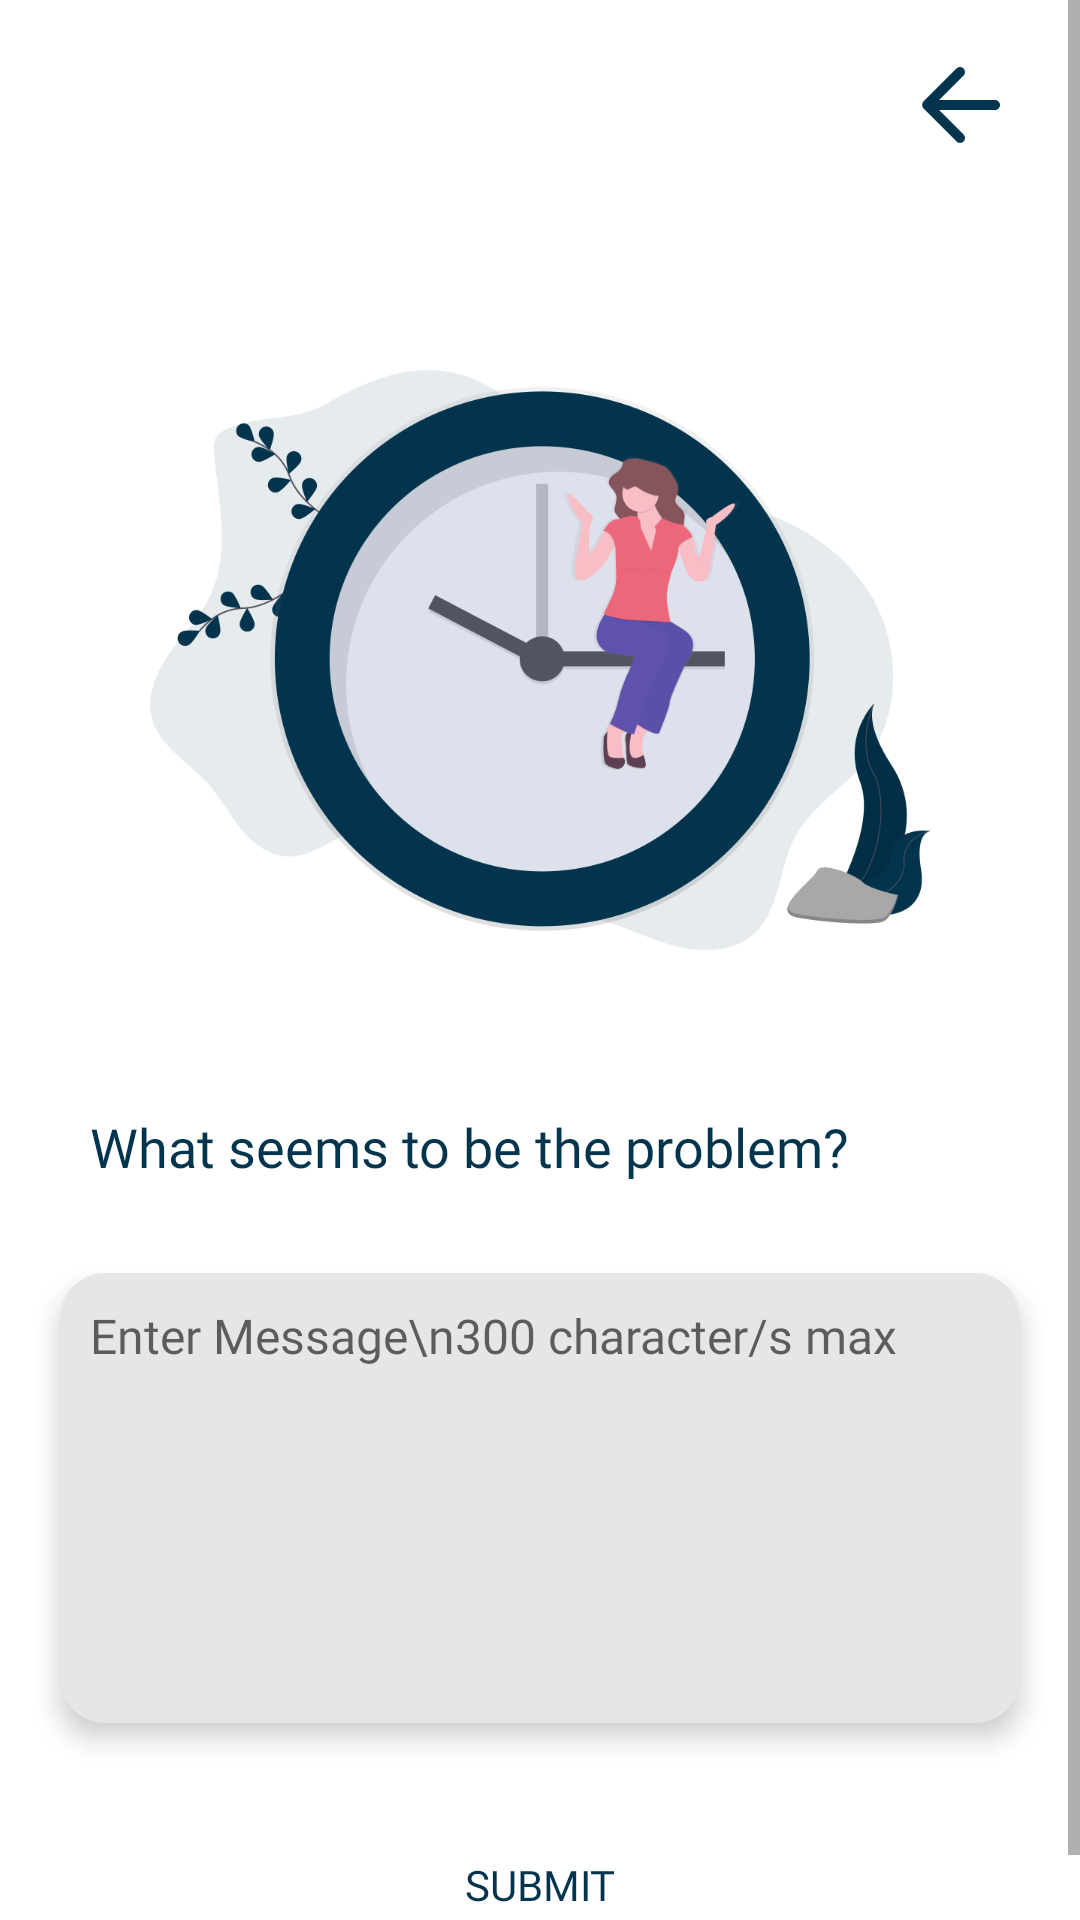

Icon click points for this 1080*1920 phone screenshot, format point (x, y):
arrow back: point (961, 105)
